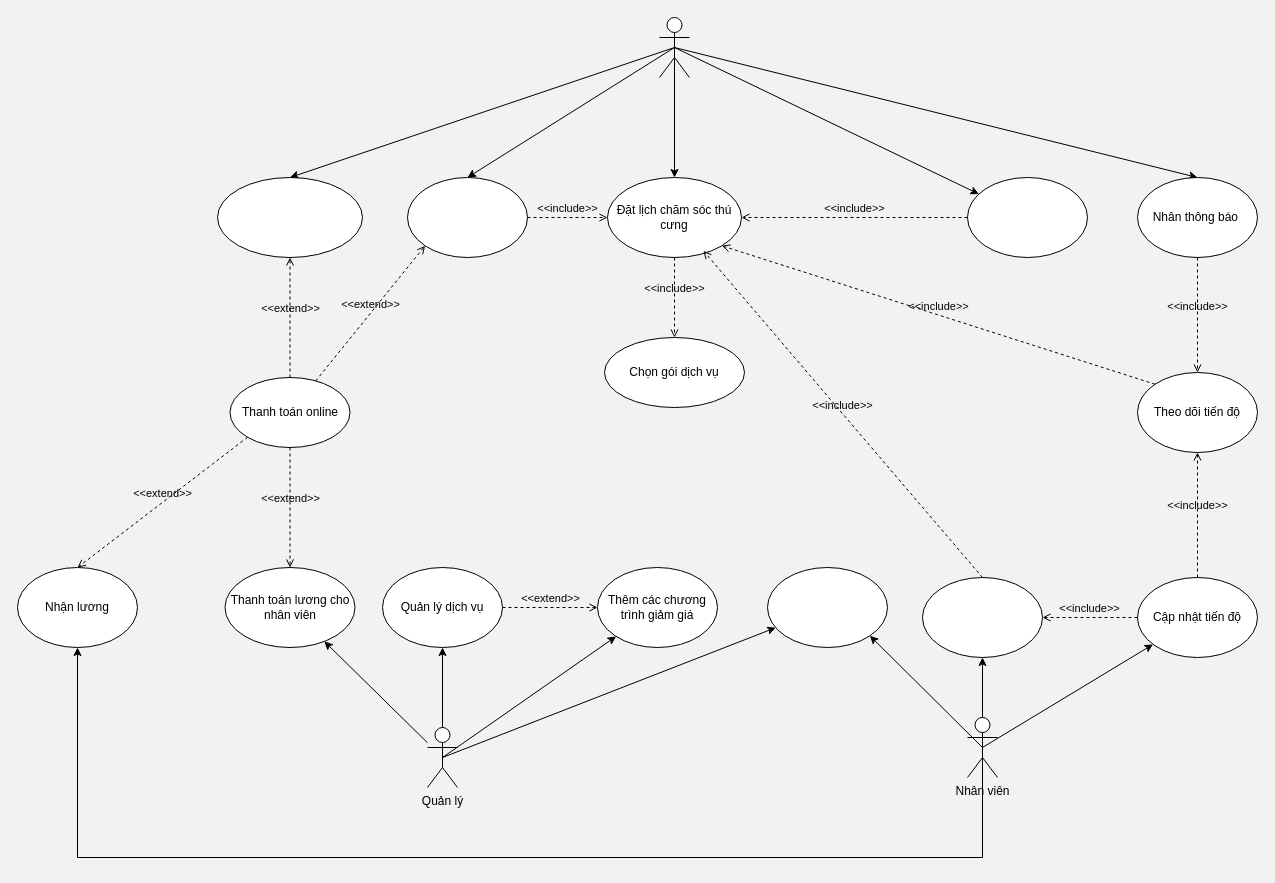
The diagram is 1275 pixels wide and 883 high, and some of its shapes have lost their labels. Here are the shapes that lost their labels. From the top down, the centre of each, then its label:
At (674,47): "Khách hàng".
At (289,217): "Mua các vật phẩm trong cửa hàng".
At (467,217): "Thanh toán dịch vụ".
At (1027,217): "Phản hồi, đánh giá dịch vụ".
At (827,607): "Quản lý sản phẩm".
At (982,617): "Nhận đơn chăm sóc thú cưng".
